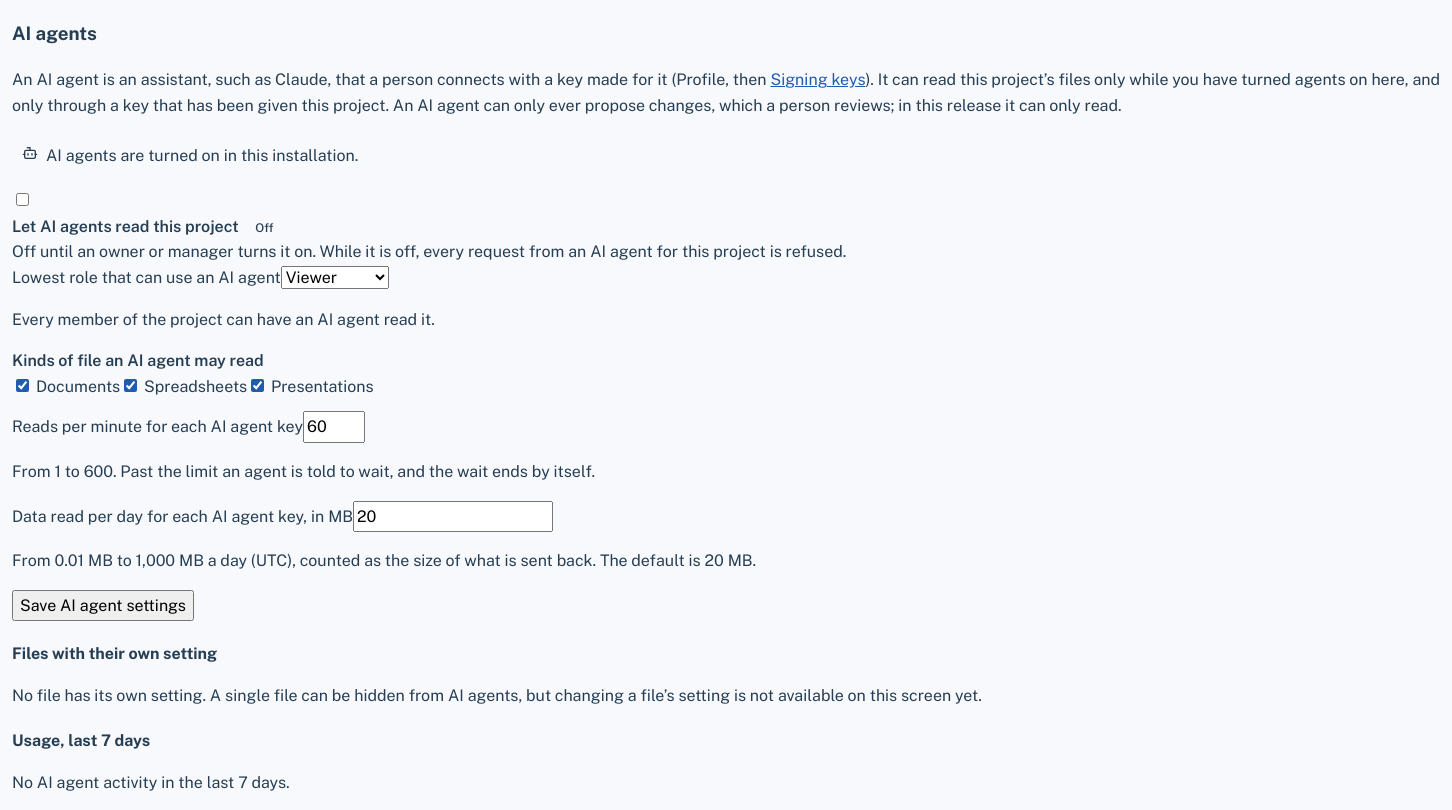
Test: ProjectAgentPolicy: saving › says what went wrong in plain words and keeps the edit
The width and height of the screenshot is (1452, 810).
Step 1. Click the switch → (22, 200), box left=16, top=193, right=29, bottom=206
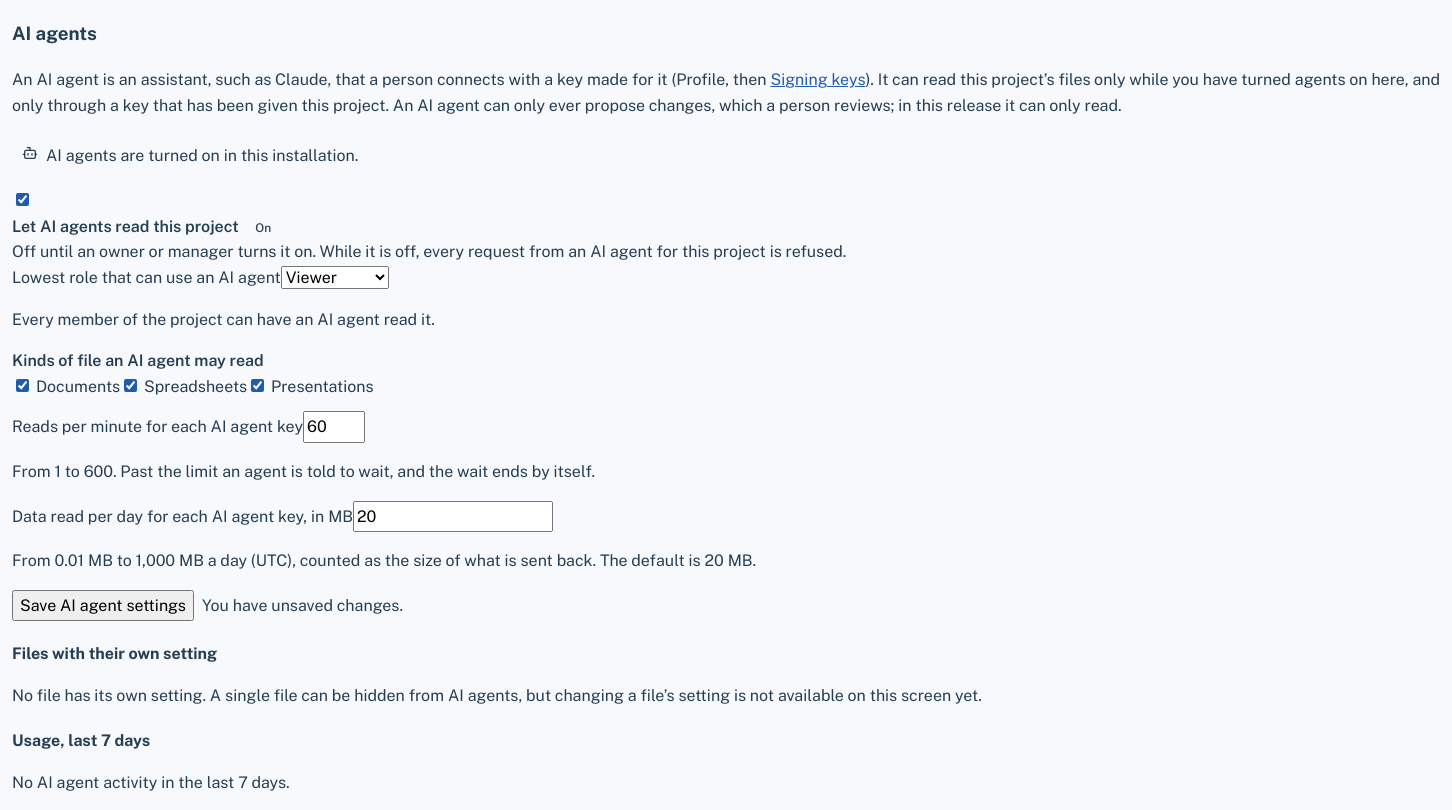
Step 2. Click the button "Save AI agent settings" → (103, 606), box left=12, top=590, right=194, bottom=621
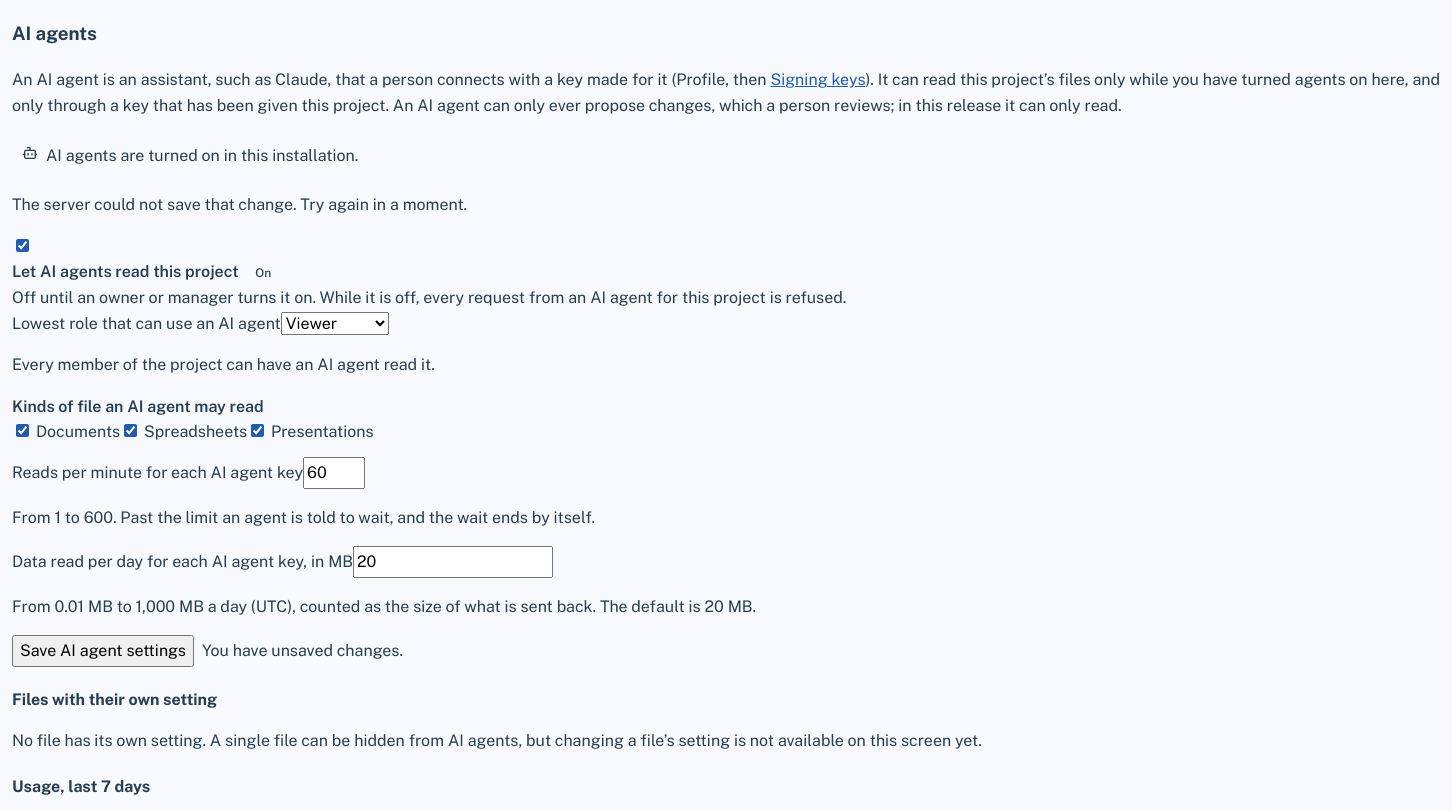
Check: the switch is checked, box left=16, top=239, right=29, bottom=252
Check: the message "The server could not save that change. Try again in a moment." is shown, box left=12, top=195, right=467, bottom=214
